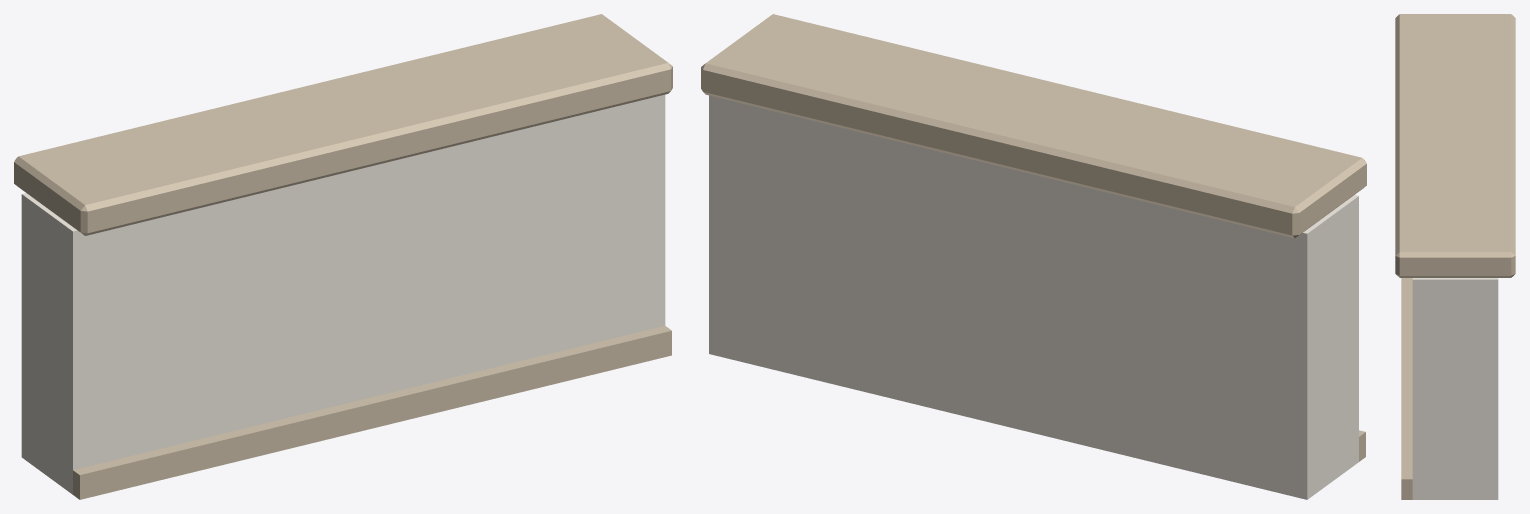
File: parapet.glb
The picture shows the model from 3 angles, left to right: view 1: azimuth 30°, elevation 25°; view 2: azimuth 150°, elevation 25°; view 3: azimuth 270°, elevation 25°; orthographic projection. The views are drawn at different scales.
Visible parts, largest first — view 1: parapet; view 2: parapet; view 3: parapet.
Boxes of the visible parts, box(x1,y1,x2,y2) form: parapet: box(14, 14, 672, 499); parapet: box(701, 14, 1366, 499); parapet: box(1395, 14, 1515, 499).
Bounding box in the file's own units: 2 × 0.95 × 0.42.
2 materials, 2 textured.
